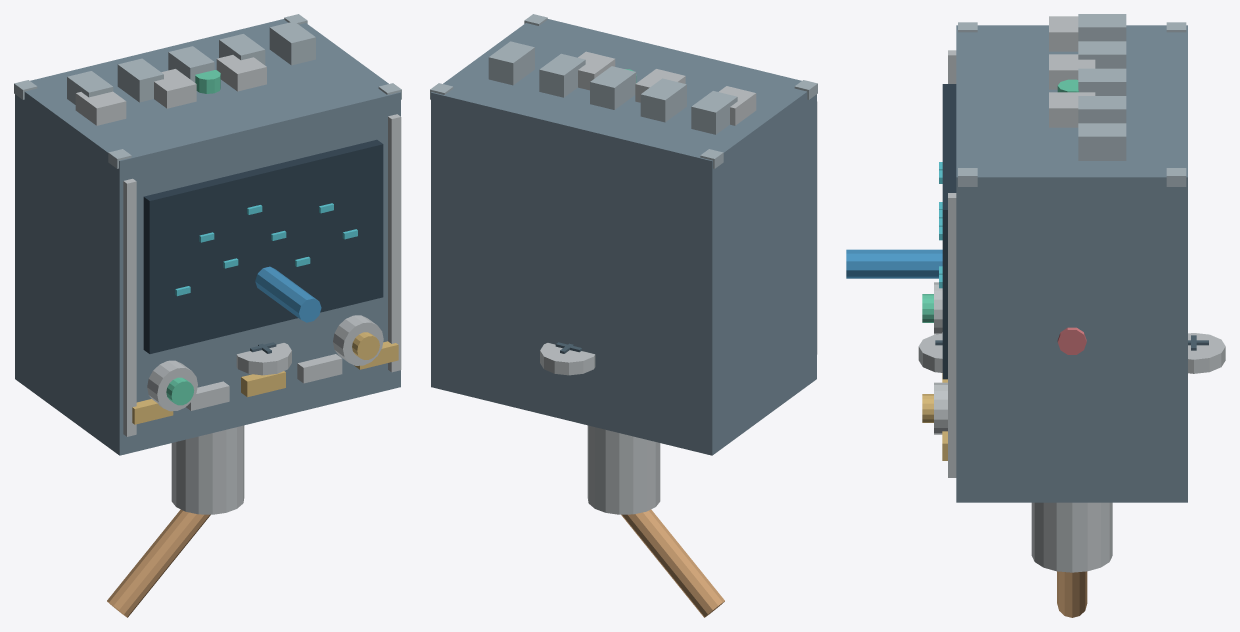
Rendered from 37_L74_SixAxisVibrationMeasurementSensor.glb.
The picture shows the model from 3 angles, left to right: view 1: azimuth 30°, elevation 25°; view 2: azimuth 150°, elevation 25°; view 3: azimuth 270°, elevation 25°; orthographic projection. The views are drawn at different scales.
Parts seen in each view (by area): view 1: SixAxisVibrationMeasurementSensor_Node_0000, SixAxisVibrationMeasurementSensor_Node_0007, SixAxisVibrationMeasurementSensor_Node_0034, SixAxisVibrationMeasurementSensor_Node_0005, SixAxisVibrationMeasurementSensor_Node_0035, SixAxisVibrationMeasurementSensor_Node_0006, SixAxisVibrationMeasurementSensor_Node_0038, SixAxisVibrationMeasurementSensor_Node_0028, SixAxisVibrationMeasurementSensor_Node_0025, SixAxisVibrationMeasurementSensor_Node_0019, SixAxisVibrationMeasurementSensor_Node_0017, SixAxisVibrationMeasurementSensor_Node_0023 (+13 smaller); view 2: SixAxisVibrationMeasurementSensor_Node_0000, SixAxisVibrationMeasurementSensor_Node_0034, SixAxisVibrationMeasurementSensor_Node_0035, SixAxisVibrationMeasurementSensor_Node_0025, SixAxisVibrationMeasurementSensor_Node_0028, SixAxisVibrationMeasurementSensor_Node_0026, SixAxisVibrationMeasurementSensor_Node_0027, SixAxisVibrationMeasurementSensor_Node_0024, SixAxisVibrationMeasurementSensor_Node_0039, SixAxisVibrationMeasurementSensor_Node_0023, SixAxisVibrationMeasurementSensor_Node_0021, SixAxisVibrationMeasurementSensor_Node_0022; view 3: SixAxisVibrationMeasurementSensor_Node_0000, SixAxisVibrationMeasurementSensor_Node_0034, SixAxisVibrationMeasurementSensor_Node_0038, SixAxisVibrationMeasurementSensor_Node_0007, SixAxisVibrationMeasurementSensor_Node_0006, SixAxisVibrationMeasurementSensor_Node_0028, SixAxisVibrationMeasurementSensor_Node_0024, SixAxisVibrationMeasurementSensor_Node_0027, SixAxisVibrationMeasurementSensor_Node_0035, SixAxisVibrationMeasurementSensor_Node_0026, SixAxisVibrationMeasurementSensor_Node_0039, SixAxisVibrationMeasurementSensor_Node_0025 (+6 smaller).
Boxes of the visible parts, x1,y1,x2,y2 form: SixAxisVibrationMeasurementSensor_Node_0000: (15, 19, 400, 455); SixAxisVibrationMeasurementSensor_Node_0007: (143, 139, 383, 353); SixAxisVibrationMeasurementSensor_Node_0034: (171, 425, 244, 514); SixAxisVibrationMeasurementSensor_Node_0005: (123, 178, 136, 436); SixAxisVibrationMeasurementSensor_Node_0035: (107, 509, 210, 617); SixAxisVibrationMeasurementSensor_Node_0006: (388, 114, 401, 372); SixAxisVibrationMeasurementSensor_Node_0038: (255, 266, 321, 322); SixAxisVibrationMeasurementSensor_Node_0028: (269, 21, 315, 65); SixAxisVibrationMeasurementSensor_Node_0025: (117, 58, 163, 102); SixAxisVibrationMeasurementSensor_Node_0019: (333, 315, 383, 365); SixAxisVibrationMeasurementSensor_Node_0017: (147, 360, 197, 411); SixAxisVibrationMeasurementSensor_Node_0023: (216, 55, 266, 91); SixAxisVibrationMeasurementSensor_Node_0000: (431, 19, 816, 455); SixAxisVibrationMeasurementSensor_Node_0034: (587, 425, 660, 514); SixAxisVibrationMeasurementSensor_Node_0035: (621, 509, 724, 617); SixAxisVibrationMeasurementSensor_Node_0025: (640, 78, 686, 122); SixAxisVibrationMeasurementSensor_Node_0028: (488, 41, 534, 85); SixAxisVibrationMeasurementSensor_Node_0026: (590, 66, 636, 109); SixAxisVibrationMeasurementSensor_Node_0027: (539, 53, 585, 97); SixAxisVibrationMeasurementSensor_Node_0024: (691, 91, 737, 134); SixAxisVibrationMeasurementSensor_Node_0039: (540, 343, 595, 375); SixAxisVibrationMeasurementSensor_Node_0023: (578, 51, 615, 90); SixAxisVibrationMeasurementSensor_Node_0021: (719, 86, 756, 125); SixAxisVibrationMeasurementSensor_Node_0022: (635, 69, 685, 102); SixAxisVibrationMeasurementSensor_Node_0000: (956, 25, 1187, 502); SixAxisVibrationMeasurementSensor_Node_0034: (1031, 502, 1112, 572); SixAxisVibrationMeasurementSensor_Node_0038: (846, 249, 942, 278); SixAxisVibrationMeasurementSensor_Node_0007: (942, 84, 956, 379); SixAxisVibrationMeasurementSensor_Node_0006: (948, 193, 956, 477); SixAxisVibrationMeasurementSensor_Node_0028: (1078, 123, 1126, 160); SixAxisVibrationMeasurementSensor_Node_0024: (1078, 14, 1126, 41); SixAxisVibrationMeasurementSensor_Node_0027: (1078, 96, 1126, 123); SixAxisVibrationMeasurementSensor_Node_0035: (1057, 571, 1087, 617); SixAxisVibrationMeasurementSensor_Node_0026: (1078, 68, 1126, 95); SixAxisVibrationMeasurementSensor_Node_0039: (1188, 333, 1225, 373); SixAxisVibrationMeasurementSensor_Node_0025: (1078, 41, 1126, 68).
Bounding box in the file's own units: 0.6336 × 1.12 × 0.655.
